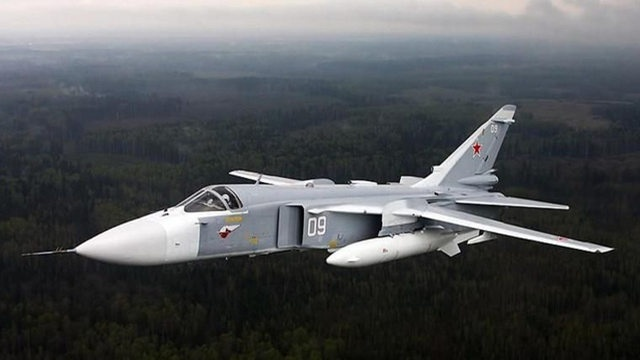airplane: (18, 103, 617, 269)
